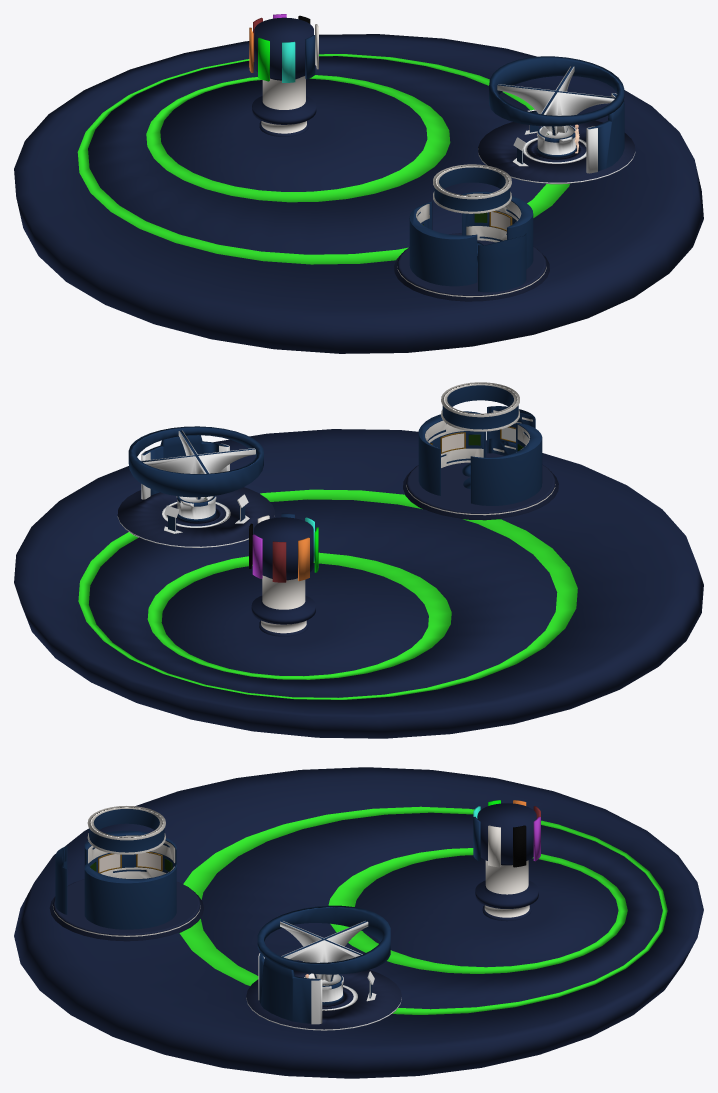
File: RPL.glb
3 renders of one model, top to bottom at view 1: azimuth 30°, elevation 25°; view 2: azimuth 150°, elevation 25°; view 3: azimuth 270°, elevation 25°, orthographic.
Parts seen in each view (by area): view 1: Floor_Ruangan_Animasi, Cube, BOOTH_FILM, Tiang tengah; view 2: Floor_Ruangan_Animasi, BOOTH_FILM, Cube, Tiang tengah; view 3: Floor_Ruangan_Animasi, Cube, BOOTH_FILM, Tiang tengah.
Boxes of the visible parts, bbox=[...] form: Floor_Ruangan_Animasi: bbox=[14, 34, 703, 353]; Cube: bbox=[478, 56, 635, 184]; BOOTH_FILM: bbox=[394, 164, 549, 301]; Tiang tengah: bbox=[249, 14, 318, 136]; Floor_Ruangan_Animasi: bbox=[14, 429, 703, 738]; BOOTH_FILM: bbox=[403, 382, 558, 520]; Cube: bbox=[117, 426, 274, 547]; Tiang tengah: bbox=[249, 513, 318, 636]; Floor_Ruangan_Animasi: bbox=[14, 767, 703, 1078]; Cube: bbox=[246, 905, 401, 1030]; BOOTH_FILM: bbox=[49, 806, 203, 941]; Tiang tengah: bbox=[473, 800, 540, 921].
Bounding box in the file's own units: 37.44 × 7.45 × 38.21.
23 materials, 2 textured.
